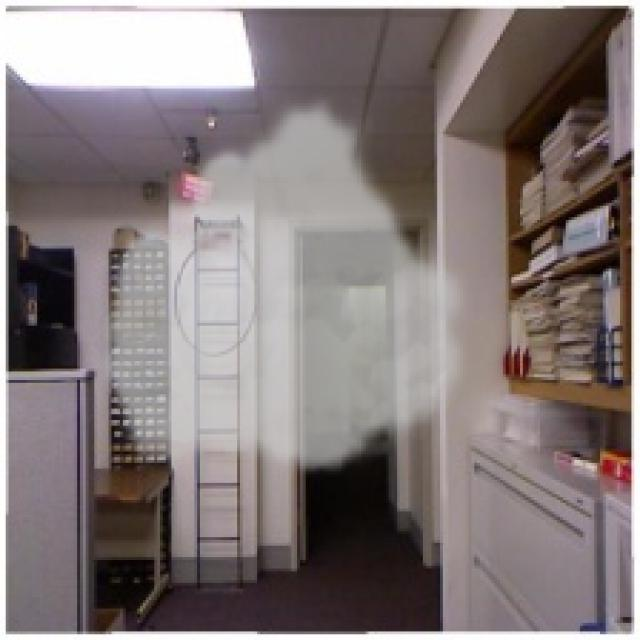smoke: (97, 92, 477, 477)
